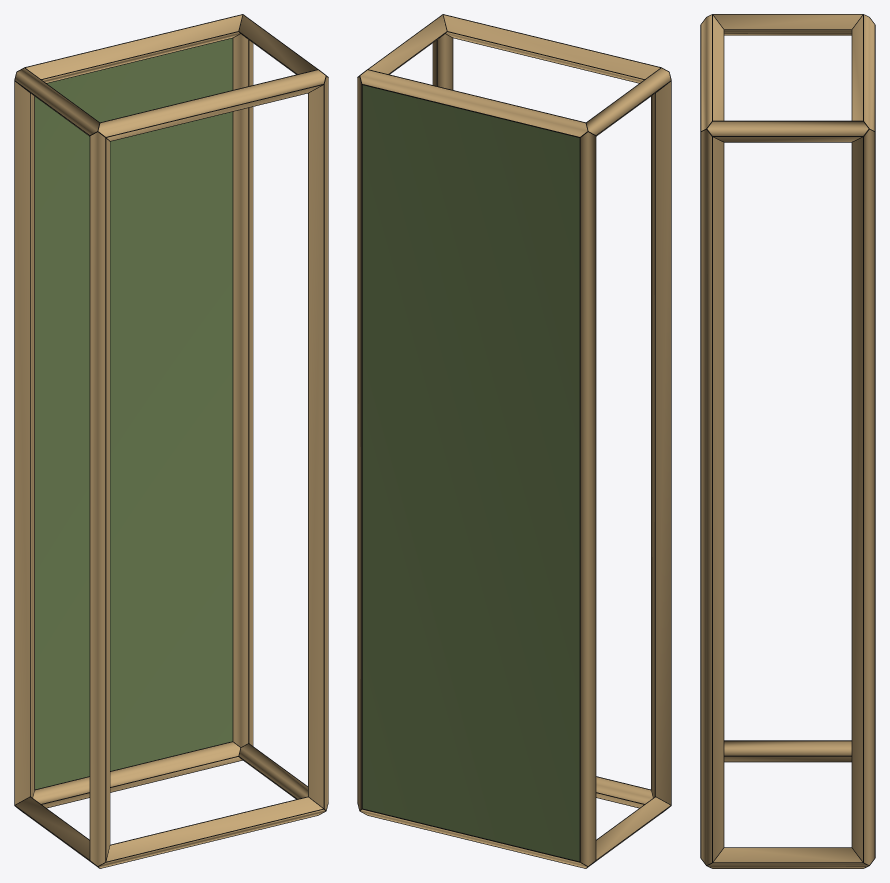
Rendered from 008-dressing.glb.
The picture shows the model from 3 angles, left to right: view 1: azimuth 30°, elevation 25°; view 2: azimuth 150°, elevation 25°; view 3: azimuth 270°, elevation 25°; orthographic projection.
Visible parts, largest first — view 1: panneau-porte-0-0, arete-Z1, arete-Z0, arete-Z2, arete-Z3, arete-X2, arete-X0, arete-X3, arete-X1, arete-wire-Z0, arete-wire-Z3, arete-wire-Z1 (+9 smaller); view 2: panneau-porte-0-0, arete-Z0, arete-Z2, arete-X2, arete-Z3, arete-X3, arete-wire-Z2, arete-wire-Z0, panneau-wire-porte-0-0, arete-Y2, arete-wire-Z3, arete-Y0 (+6 smaller); view 3: arete-Z1, arete-Z3, arete-wire-Z1, arete-wire-Z3, arete-Y3, arete-Y1, arete-Y2, arete-Y0, arete-X2, arete-X3, arete-wire-Y0, arete-wire-Y1 (+4 smaller).
Part boxes in pixels (bbox=[...]): panneau-porte-0-0: bbox=[35, 38, 232, 789]; arete-Z1: bbox=[308, 76, 328, 809]; arete-Z0: bbox=[90, 132, 109, 865]; arete-Z2: bbox=[15, 82, 34, 804]; arete-Z3: bbox=[233, 34, 252, 746]; arete-X2: bbox=[98, 70, 325, 140]; arete-X0: bbox=[99, 797, 325, 868]; arete-X3: bbox=[26, 15, 242, 82]; arete-X1: bbox=[33, 742, 241, 807]; arete-wire-Z0: bbox=[89, 131, 110, 862]; arete-wire-Z3: bbox=[232, 38, 253, 745]; arete-wire-Z1: bbox=[308, 75, 328, 808]; panneau-porte-0-0: bbox=[362, 85, 579, 861]; arete-Z0: bbox=[651, 82, 670, 804]; arete-Z2: bbox=[580, 132, 595, 865]; arete-X2: bbox=[443, 15, 659, 82]; arete-Z3: bbox=[357, 76, 361, 809]; arete-X3: bbox=[360, 70, 587, 136]; arete-wire-Z2: bbox=[580, 131, 596, 862]; arete-wire-Z0: bbox=[651, 72, 671, 804]; panneau-wire-porte-0-0: bbox=[362, 84, 579, 861]; arete-Y2: bbox=[586, 68, 670, 135]; arete-wire-Z3: bbox=[357, 78, 361, 808]; arete-Y0: bbox=[596, 797, 670, 859]; arete-Z1: bbox=[701, 129, 723, 864]; arete-Z3: bbox=[852, 129, 874, 864]; arete-wire-Z1: bbox=[700, 129, 724, 862]; arete-wire-Z3: bbox=[851, 132, 875, 862]; arete-Y3: bbox=[707, 121, 868, 141]; arete-Y1: bbox=[707, 848, 868, 868]; arete-Y2: bbox=[713, 14, 862, 35]; arete-Y0: bbox=[724, 741, 851, 761]; arete-X2: bbox=[701, 15, 723, 130]; arete-X3: bbox=[852, 15, 874, 130]; arete-wire-Y0: bbox=[724, 740, 851, 762]; arete-wire-Y1: bbox=[706, 847, 869, 868].
Size of the model in its own units: 0.6809 by 2.03 by 0.4309.
